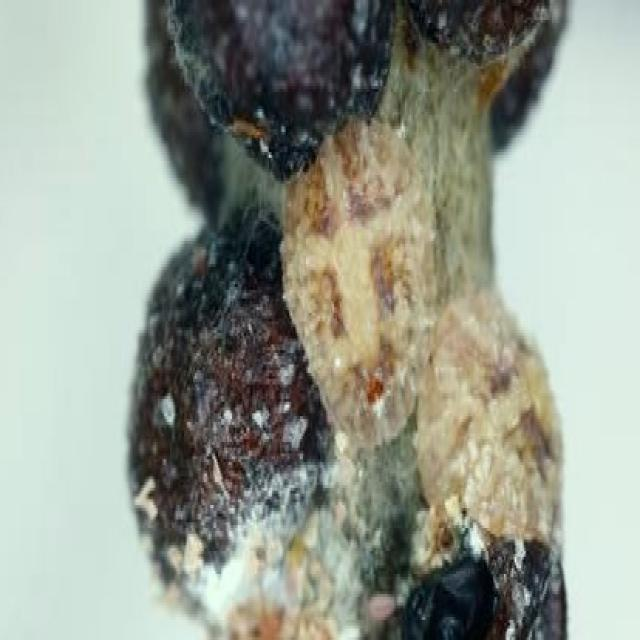BlackScale: (128, 212, 332, 634), (402, 296, 564, 638), (282, 114, 438, 445), (164, 0, 394, 178)
